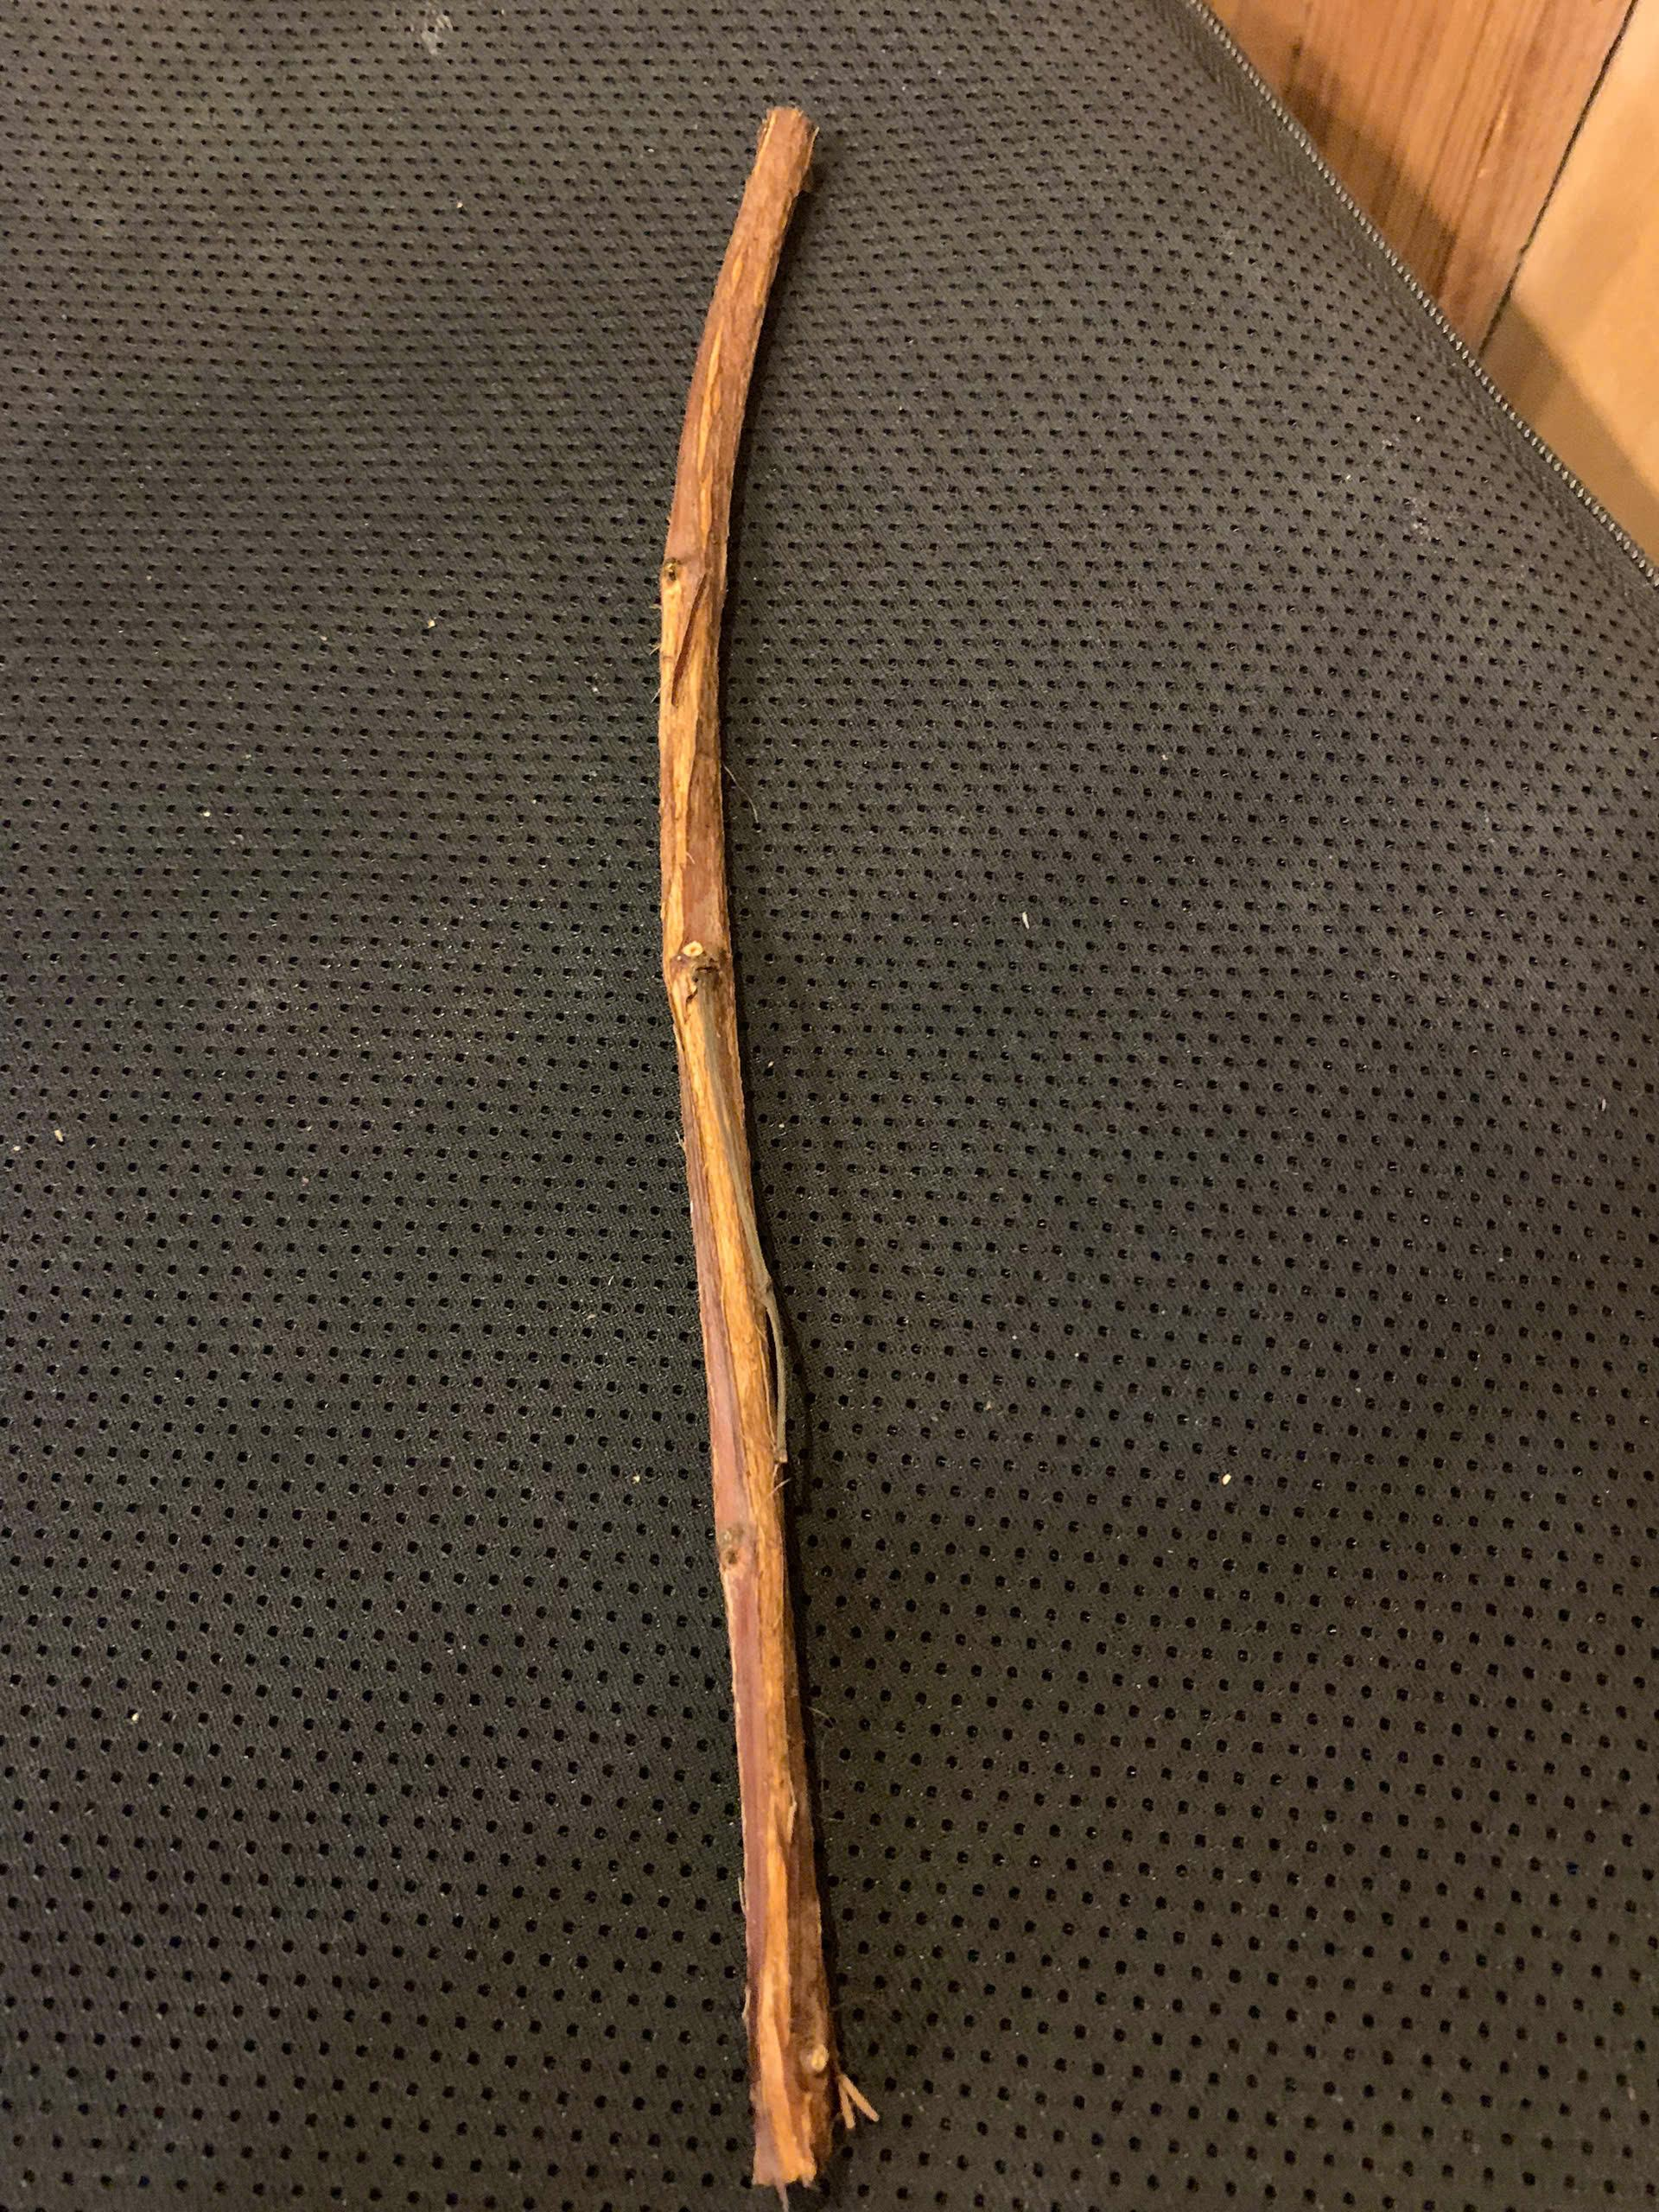Huu co: (643, 92, 850, 2193)
